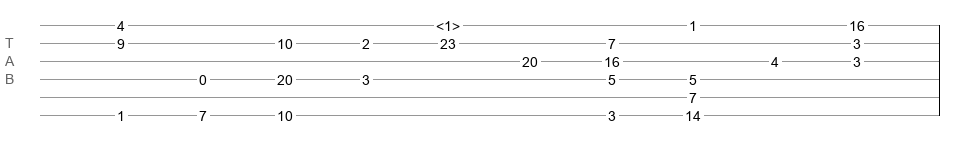0: (199, 72, 207, 82)
1: (117, 108, 125, 118), (689, 18, 697, 28)
10: (277, 108, 293, 118), (277, 36, 293, 46)
14: (685, 108, 701, 118)
16: (604, 54, 620, 64), (849, 18, 865, 28)
2: (362, 36, 370, 46)
20: (277, 72, 293, 82), (522, 54, 538, 64)
23: (440, 36, 456, 46)
3: (362, 72, 370, 82), (608, 108, 616, 118), (853, 54, 861, 64), (853, 36, 861, 46)
4: (117, 18, 125, 28), (771, 54, 779, 64)
5: (608, 72, 616, 82), (689, 72, 697, 82)
7: (199, 108, 207, 118), (608, 36, 616, 46), (689, 90, 697, 100)
9: (117, 36, 125, 46)
harmonic: (436, 18, 460, 28)
